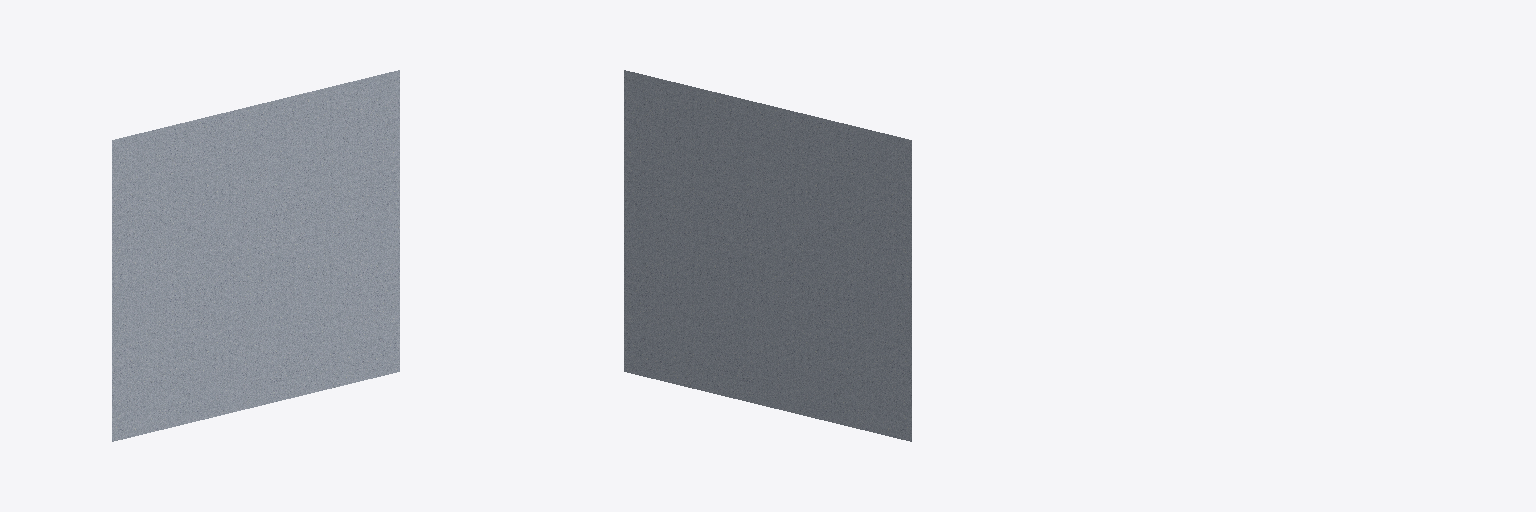
3 renders of one model, left to right at view 1: azimuth 30°, elevation 25°; view 2: azimuth 150°, elevation 25°; view 3: azimuth 270°, elevation 25°, orthographic.
Visible parts, largest first — view 1: Plane; view 2: Plane; view 3: none.
Boxes of the visible parts, box(x1,y1,x2,y2) form: Plane: box(112, 70, 399, 441); Plane: box(624, 70, 911, 441).
Size of the model in its own units: 20 by 20 by 0.
1 materials, 1 textured.